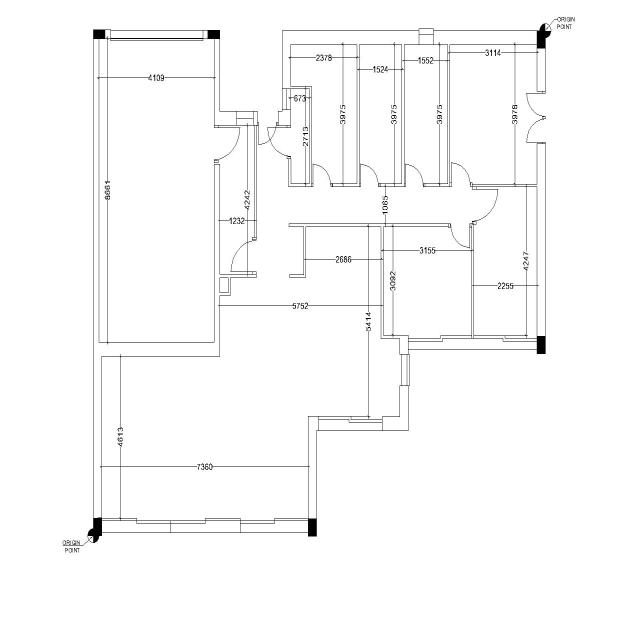Column: (536, 30, 546, 49), (536, 336, 546, 354), (93, 517, 102, 536), (308, 518, 317, 536), (93, 29, 105, 39), (208, 30, 220, 39)
Door: (214, 125, 240, 163), (472, 187, 498, 224), (231, 237, 256, 274), (268, 125, 290, 159), (448, 223, 472, 248), (450, 162, 472, 187), (359, 164, 380, 187), (404, 164, 425, 187), (258, 122, 278, 145), (312, 164, 332, 187)
Double-Door: (526, 90, 546, 144)
Sliding Door: (102, 518, 308, 523), (318, 416, 382, 431), (408, 336, 472, 342), (474, 336, 537, 342)
Window: (110, 30, 204, 41), (400, 354, 410, 386), (418, 28, 434, 45), (236, 111, 254, 125), (282, 88, 291, 110)
